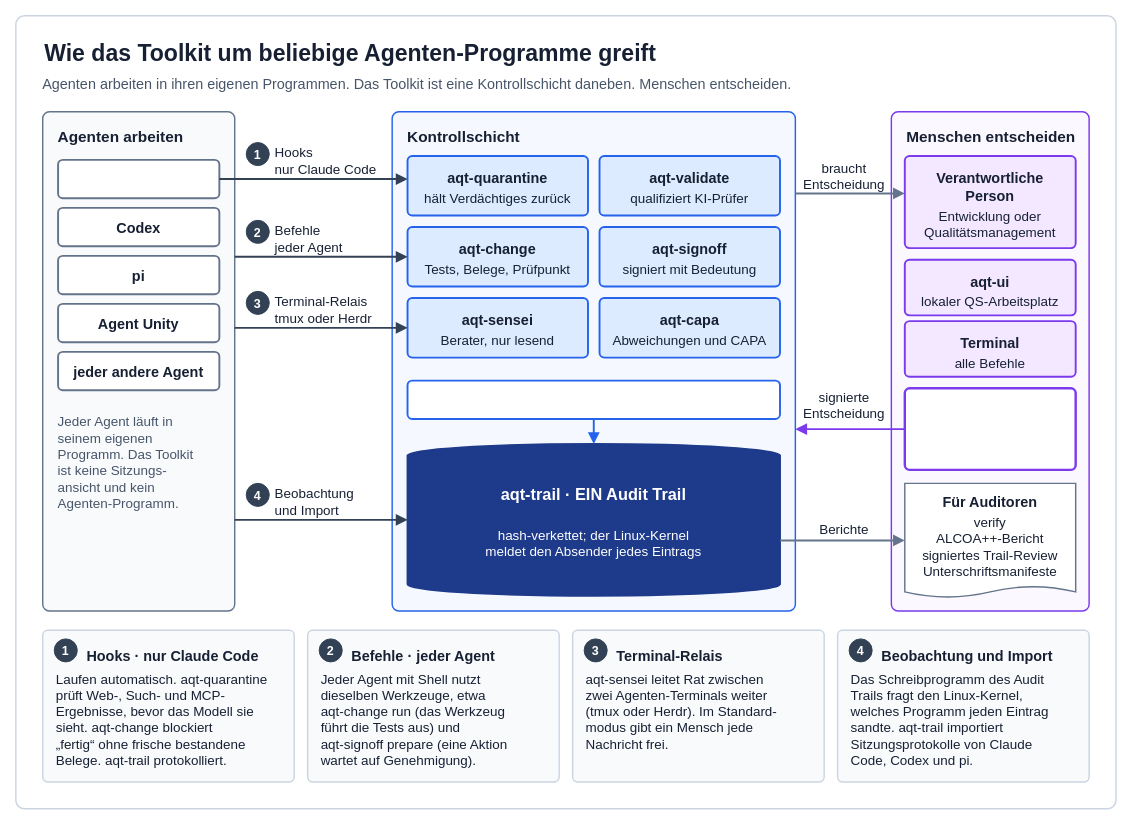
Image size: 1132x825. Some labels were removed from this diagram. Each missing label, with the centre of its shape:
"aqt-spec · ein Datensatzformat für alle Werkzeuge" belongs at (593,399).
"Claude Code" belongs at (138,178).
"Entscheidet mit Passphrase: freigeben, unterschreiben, genehmigen, prüfen" belongs at (989,429).
